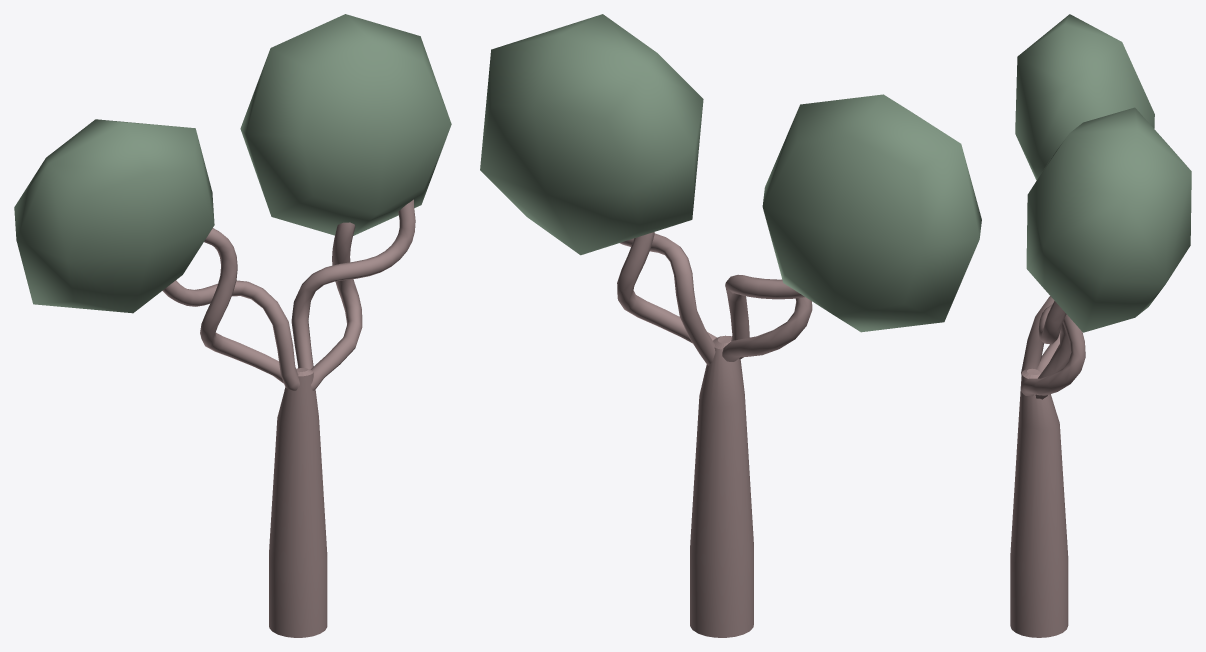
Rendered from LightTree.fbx.
3 renders of one model, left to right at view 1: azimuth 30°, elevation 25°; view 2: azimuth 150°, elevation 25°; view 3: azimuth 270°, elevation 25°, orthographic. The views are drawn at different scales.
Parts seen in each view (by area): view 1: LightTree; view 2: LightTree; view 3: LightTree.
Boxes of the visible parts, x1=… form: LightTree: x1=14, y1=14, x2=451, y2=637; LightTree: x1=480, y1=14, x2=981, y2=637; LightTree: x1=1010, y1=14, x2=1191, y2=637.
Bounding box in the file's own units: 17.19 × 20.63 × 6.25.
